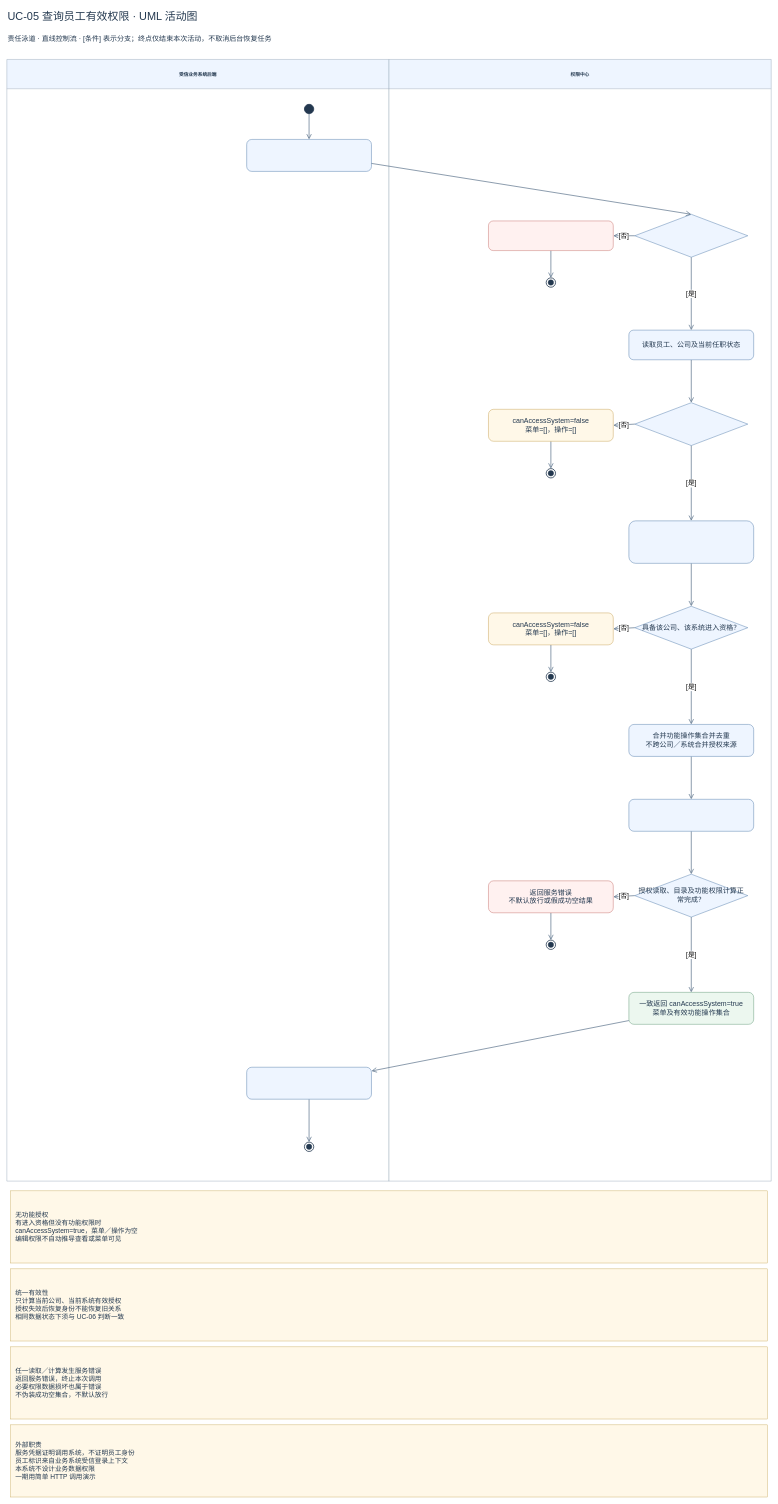
The diagram is 778 pixels wide and 1504 high, and some of its shapes have lost their labels. The centre of each missing label's shape, as x and y in pixels:
一致读取当前公司、系统的有效角色 排除失效关系、未生效角色及无效目录: pixel 691 541
业务系统映射功能入口 按操作权限执行访问拦截: pixel 308 1083
参数、服务身份与系统绑定合法？: pixel 691 235
员工／公司有效且有该公司有效任职？: pixel 691 424
按对应查看／进入权限生成可见菜单 补充必要祖先，标记仅导航容器: pixel 691 815
提交服务凭据、员工、当前公司及系统: pixel 308 155
返回调用错误，不返回正常授权结果: pixel 550 236
